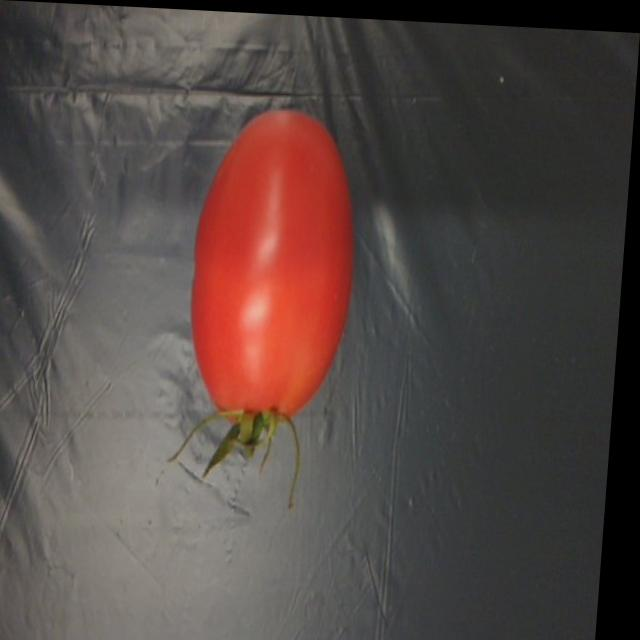kirmizi: (177, 96, 382, 446)
